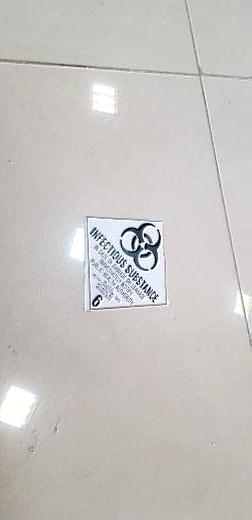infectious-substance: (86, 217, 166, 311)
